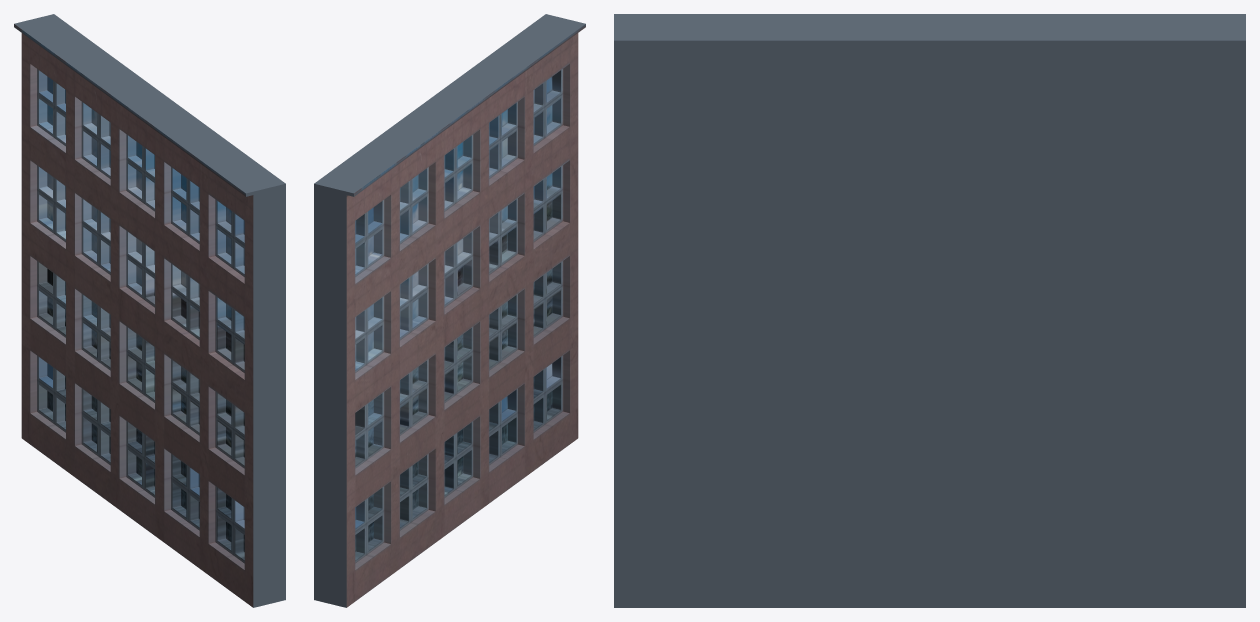
The model's file is facade9.fbx.
3 renders of one model, left to right at view 1: azimuth 30°, elevation 25°; view 2: azimuth 150°, elevation 25°; view 3: azimuth 270°, elevation 25°, orthographic. The views are drawn at different scales.
Visible parts, largest first — view 1: facade9; view 2: facade9; view 3: facade9.
Boxes of the visible parts, x1,y1,x2,y2 form: facade9: (14, 14, 285, 607); facade9: (314, 14, 585, 607); facade9: (614, 14, 1245, 607).
Bounding box in the file's own units: 6.84 × 67.89 × 68.53.
Materials: 2 (2 with a texture image).
